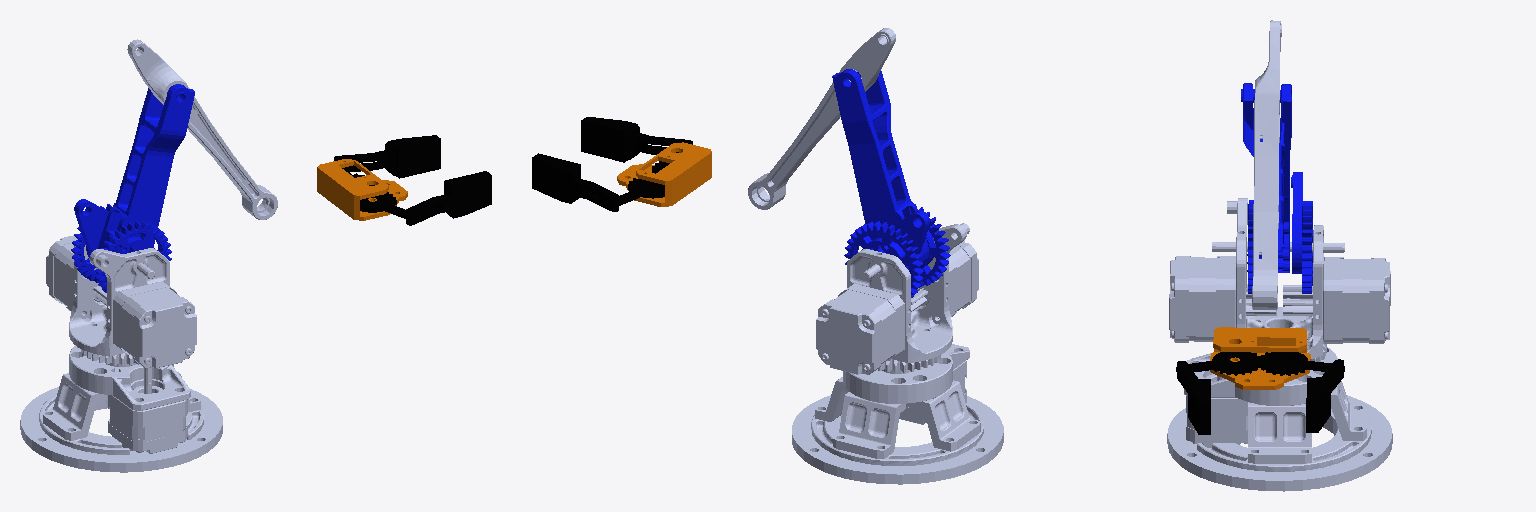
URDF robot description (arm_assem_urdf_v3):
<?xml version="1.0" encoding="utf-8" ?>
<!-- This URDF was automatically created by SolidWorks to URDF Exporter! Originally created by [author] ([email redacted]) 
      Commit Version: 1.6.0-4-g7f85cfe  Build Version: 1.6.7995.38578
      For more information, please see http://wiki.ros.org/sw_urdf_exporter -->
<robot name="arm_assem_urdf_v3">
    <link name="world" />
    <joint name="base_joint" type="fixed">
        <parent link="world" />
        <child link="base_link" />
        <origin rpy="0 0 0" xyz="0.0 0.0 0.0" />
    </joint>
    <link name="base_link">
        <inertial>
            <origin xyz="0.00150640163569479 -0.00744412697137323 0.021575291745562" rpy="0 0 0" />
            <mass value="0.225155608259606" />
            <inertia ixx="0.000158731186562235" ixy="1.89478288443537E-10" ixz="6.38637064713494E-07" iyy="0.000155364980363025" iyz="-7.89520234501468E-07" izz="0.000292560052720127" />
        </inertial>
        <visual>
            <origin xyz="0 0 0" rpy="0 0 0" />
            <geometry>
                <mesh filename="package://arm_assem_urdf_v3/meshes/base_link.STL" />
            </geometry>
            <material name="">
                <color rgba="0.792156862745098 0.819607843137255 0.933333333333333 1" />
            </material>
        </visual>
        <collision>
            <origin xyz="0 0 0" rpy="0 0 0" />
            <geometry>
                <mesh filename="package://arm_assem_urdf_v3/meshes/base_link.STL" />
            </geometry>
        </collision>
    </link>
    <link name="Link1">
        <inertial>
            <origin xyz="-0.000219660149647 -0.000206217410116394 0.0234208435275494" rpy="0 0 0" />
            <mass value="0.204256155677227" />
            <inertia ixx="8.37656797330928E-05" ixy="-1.11869600215038E-06" ixz="1.97407066773803E-06" iyy="7.64080027310773E-05" iyz="1.77249752239893E-06" izz="7.39724330055071E-05" />
        </inertial>
        <visual>
            <origin xyz="0 0 0" rpy="0 0 0" />
            <geometry>
                <mesh filename="package://arm_assem_urdf_v3/meshes/Link1.STL" />
            </geometry>
            <material name="">
                <color rgba="0.792156862745098 0.819607843137255 0.933333333333333 1" />
            </material>
        </visual>
        <collision>
            <origin xyz="0 0 0" rpy="0 0 0" />
            <geometry>
                <mesh filename="package://arm_assem_urdf_v3/meshes/Link1.STL" />
            </geometry>
        </collision>
    </link>
    <joint name="joint1" type="revolute">
        <origin xyz="0 0 0.069677" rpy="0 0 0" />
        <parent link="base_link" />
        <child link="Link1" />
        <axis xyz="0 0 -1" />
        <limit lower="-1.57" upper="1.57" effort="300" velocity="3" />
    </joint>
    <link name="link2">
        <inertial>
            <origin xyz="-0.000635030725265592 -0.0017005378112866 0.0303940578530917" rpy="0 0 0" />
            <mass value="0.0618234826721945" />
            <inertia ixx="7.2519438819205E-05" ixy="8.94729351156938E-08" ixz="-3.46012942132548E-07" iyy="7.65877029225625E-05" iyz="2.11637770985362E-06" izz="9.13398981116826E-06" />
        </inertial>
        <visual>
            <origin xyz="0 0 0" rpy="0 0 0" />
            <geometry>
                <mesh filename="package://arm_assem_urdf_v3/meshes/link2.STL" />
            </geometry>
            <material name="">
                <color rgba="0.0941176470588235 0.145098039215686 0.972549019607843 1" />
            </material>
        </visual>
        <collision>
            <origin xyz="0 0 0" rpy="0 0 0" />
            <geometry>
                <mesh filename="package://arm_assem_urdf_v3/meshes/link2.STL" />
            </geometry>
        </collision>
    </link>
    <joint name="joint2" type="revolute">
        <origin xyz="0 0 0.060523" rpy="0.0010408 0.27868 0.00028631" />
        <parent link="Link1" />
        <child link="link2" />
        <axis xyz="0.018199 0.99983 0.0041666" />
        <limit lower="-1.57" upper="1.57" effort="300" velocity="3" />
    </joint>
    <link name="link3">
        <inertial>
            <origin xyz="-0.000154541510170358 0.00680484750009253 0.0412582679635699" rpy="0 0 0" />
            <mass value="0.0214055275323528" />
            <inertia ixx="5.24770197465649E-05" ixy="-4.53189771846521E-09" ixz="2.11924573360701E-08" iyy="5.26782722904222E-05" iyz="-9.45340410405457E-07" izz="8.8759756943985E-07" />
        </inertial>
        <visual>
            <origin xyz="0 0 0" rpy="0 0 0" />
            <geometry>
                <mesh filename="package://arm_assem_urdf_v3/meshes/link3.STL" />
            </geometry>
            <material name="">
                <color rgba="0.792156862745098 0.819607843137255 0.933333333333333 1" />
            </material>
        </visual>
        <collision>
            <origin xyz="0 0 0" rpy="0 0 0" />
            <geometry>
                <mesh filename="package://arm_assem_urdf_v3/meshes/link3.STL" />
            </geometry>
        </collision>
    </link>
    <joint name="joint3" type="revolute">
        <origin xyz="0 0 0.12" rpy="3.1205 -0.88394 0.012478" />
        <parent link="link2" />
        <child link="link3" />
        <axis xyz="0.022672 -0.99974 0" />
        <limit lower="-1.57" upper="1.57" effort="300" velocity="3" />
    </joint>
    <link name="link4">
        <inertial>
            <origin xyz="-0.00934298668041544 0.000743518808622917 0.0267425924332726" rpy="0 0 0" />
            <mass value="0.023112618067934" />
            <inertia ixx="3.49933692107677E-06" ixy="2.69354223820958E-07" ixz="-1.92888175122474E-07" iyy="3.25892331793769E-06" iyz="4.91629627315494E-09" izz="4.7358787095275E-06" />
        </inertial>
        <visual>
            <origin xyz="0 0 0" rpy="0 0 0" />
            <geometry>
                <mesh filename="package://arm_assem_urdf_v3/meshes/link4.STL" />
            </geometry>
            <material name="">
                <color rgba="0.0941176470588235 0.145098039215686 0.972549019607843 1" />
            </material>
        </visual>
        <collision>
            <origin xyz="0 0 0" rpy="0 0 0" />
            <geometry>
                <mesh filename="package://arm_assem_urdf_v3/meshes/link4.STL" />
            </geometry>
        </collision>
    </link>
    <joint name="joint4" type="revolute">
        <origin xyz="0 0 0.12" rpy="-0.96533 0 -1.5481" />
        <parent link="link3" />
        <child link="link4" />
        <axis xyz="1 0 0" />
        <limit lower="-1.57" upper="1.57" effort="300" velocity="3" />
    </joint>
    <link name="link5">
        <inertial>
            <origin xyz="-0.00239092663439414 -0.00197324019686757 0.0161784991555977" rpy="0 0 0" />
            <mass value="0.0126330821792413" />
            <inertia ixx="2.68274528562228E-06" ixy="6.34711081616282E-08" ixz="3.16305210084618E-08" iyy="5.25117320157148E-06" iyz="3.98302641486583E-07" izz="3.73419870748951E-06" />
        </inertial>
        <visual>
            <origin xyz="0 0 0" rpy="0 0 0" />
            <geometry>
                <mesh filename="package://arm_assem_urdf_v3/meshes/link5.STL" />
            </geometry>
            <material name="">
                <color rgba="0.866666666666667 0.486274509803922 0.0588235294117647 1" />
            </material>
        </visual>
        <collision>
            <origin xyz="0 0 0" rpy="0 0 0" />
            <geometry>
                <mesh filename="package://arm_assem_urdf_v3/meshes/link5.STL" />
            </geometry>
        </collision>
    </link>
    <joint name="joint5" type="revolute">
        <origin xyz="-0.0072522 -0.0056047 0.0561" rpy="0 0 0" />
        <parent link="link4" />
        <child link="link5" />
        <axis xyz="0 0 -1" />
        <limit lower="-1.57" upper="1.57" effort="300" velocity="3" />
    </joint>
    <link name="rightGripper">
        <inertial>
            <origin xyz="0.00144162102260376 -0.00353867607475858 2.30607200002453E-13" rpy="0 0 0" />
            <mass value="0.00233493264577781" />
            <inertia ixx="3.0457499132358E-07" ixy="6.56068122289291E-08" ixz="2.90693388184678E-22" iyy="1.3682092240518E-07" iyz="-1.51570107499573E-21" izz="4.37893514760094E-07" />
        </inertial>
        <visual>
            <origin xyz="0 0 0" rpy="0 0 0" />
            <geometry>
                <mesh filename="package://arm_assem_urdf_v3/meshes/rightGripper.STL" />
            </geometry>
            <material name="">
                <color rgba="0.0196078431372549 0.0196078431372549 0.0196078431372549 1" />
            </material>
        </visual>
        <collision>
            <origin xyz="0 0 0" rpy="0 0 0" />
            <geometry>
                <mesh filename="package://arm_assem_urdf_v3/meshes/rightGripper.STL" />
            </geometry>
        </collision>
    </link>
    <joint name="rgripper_joint" type="revolute">
        <origin xyz="-0.016798 -0.0043953 0.0205" rpy="-1.5708 -1.5522 0" />
        <parent link="link5" />
        <child link="rightGripper" />
        <axis xyz="0 0 -1" />
        <limit lower="-1.57" upper="1.57" effort="300" velocity="3" />
    </joint>
    <link name="r_finger">
        <inertial>
            <origin xyz="0.044314154210055 0.0103703079345868 0.000990344503798118" rpy="0 0 0" />
            <mass value="0.00995624544719296" />
            <inertia ixx="5.42065432815972E-07" ixy="-4.36707086314946E-07" ixz="-2.97754922218503E-09" iyy="2.70090956464801E-06" iyz="-6.12682587836477E-10" izz="2.53748010084301E-06" />
        </inertial>
        <visual>
            <origin xyz="0 0 0" rpy="0 0 0" />
            <geometry>
                <mesh filename="package://arm_assem_urdf_v3/meshes/r_finger.STL" />
            </geometry>
            <material name="">
                <color rgba="0.0196078431372549 0.0196078431372549 0.0196078431372549 1" />
            </material>
        </visual>
        <collision>
            <origin xyz="0 0 0" rpy="0 0 0" />
            <geometry>
                <mesh filename="package://arm_assem_urdf_v3/meshes/r_finger.STL" />
            </geometry>
        </collision>
    </link>
    <joint name="r_fingerj" type="revolute">
        <origin xyz="0.010575 -0.03205 -0.0015" rpy="0 0 0" />
        <parent link="rightGripper" />
        <child link="r_finger" />
        <axis xyz="0 0 0" />
        <limit lower="-1.57" upper="1.57" effort="300" velocity="3" />
    </joint>
    <link name="leftGripper">
        <inertial>
            <origin xyz="0.00125836519034134 0.00326509739095496 -6.2762673342015E-05" rpy="0 0 0" />
            <mass value="0.00220737553386929" />
            <inertia ixx="3.0234988544685E-07" ixy="-5.673947300425E-08" ixz="6.61985177775197E-11" iyy="1.28450669790127E-07" iyz="3.94721215242359E-10" izz="4.27506882316946E-07" />
        </inertial>
        <visual>
            <origin xyz="0 0 0" rpy="0 0 0" />
            <geometry>
                <mesh filename="package://arm_assem_urdf_v3/meshes/leftGripper.STL" />
            </geometry>
            <material name="">
                <color rgba="0.0196078431372549 0.0196078431372549 0.0196078431372549 1" />
            </material>
        </visual>
        <collision>
            <origin xyz="0 0 0" rpy="0 0 0" />
            <geometry>
                <mesh filename="package://arm_assem_urdf_v3/meshes/leftGripper.STL" />
            </geometry>
        </collision>
    </link>
    <joint name="Lgripperjoint" type="revolute">
        <origin xyz="0.013202 -0.0043953 0.0205" rpy="-1.5708 -1.5522 0" />
        <parent link="link5" />
        <child link="leftGripper" />
        <axis xyz="0 0 1" />
        <limit lower="-1.57" upper="1.57" effort="300" velocity="3" />
        <mimic joint="rgripper_joint" multiplier="1.0" offset="0.0" />
    </joint>
    <link name="l_fing">
        <inertial>
            <origin xyz="0.0438967443303473 -0.0120151315934035 0.00150965549635686" rpy="0 0 0" />
            <mass value="0.00995624544719296" />
            <inertia ixx="5.77604056032025E-07" ixy="5.15919018530005E-07" ixz="2.95263858591668E-09" iyy="2.66537094143195E-06" iyz="-7.23259776929588E-10" izz="2.53748010084301E-06" />
        </inertial>
        <visual>
            <origin xyz="0 0 0" rpy="0 0 0" />
            <geometry>
                <mesh filename="package://arm_assem_urdf_v3/meshes/l_fing.STL" />
            </geometry>
            <material name="">
                <color rgba="0.0196078431372549 0.0196078431372549 0.0196078431372549 1" />
            </material>
        </visual>
        <collision>
            <origin xyz="0 0 0" rpy="0 0 0" />
            <geometry>
                <mesh filename="package://arm_assem_urdf_v3/meshes/l_fing.STL" />
            </geometry>
        </collision>
    </link>
    <joint name="l_fing_j" type="revolute">
        <origin xyz="0.0092191 0.032466 -0.0015" rpy="0 0 0" />
        <parent link="leftGripper" />
        <child link="l_fing" />
        <axis xyz="0 0 -1" />
        <limit lower="-1.57" upper="1.57" effort="300" velocity="3" />
        <mimic joint="r_fingerj" multiplier="1.0" offset="0.0" />
    </joint>
    <!-- Commented out r_elbo link and joint -->
    <!-- <link name="r_elbo">
     <inertial>
       <origin xyz="0.00528751165543523 -0.0160252252868439 0.00150000000007736" rpy="0 0 0" />
       <mass value="0.000682275993524469" />
       <inertia ixx="6.76453700296653E-08" ixy="2.13243058801086E-08" ixz="1.05378813934445E-22" iyy="1.00522688788846E-08" iyz="-3.299793730521E-22" izz="7.66742249182632E-08" />
     </inertial>
     <visual>
       <origin xyz="0 0 0" rpy="0 0 0" />
       <geometry>
         <mesh filename="package://arm_assem_urdf_v3/meshes/r_elbo.STL" />
       </geometry>
       <material name="">
         <color rgba="0 0 0 1" />
       </material>
     </visual>
     <collision>
       <origin xyz="0 0 0" rpy="0 0 0" />
       <geometry>
         <mesh filename="package://arm_assem_urdf_v3/meshes/r_elbo.STL" />
       </geometry>
     </collision>
   </link>
   <joint name="r_j_elbo" type="revolute">
     <origin xyz="-0.0092978 -0.0058953 0.0435" rpy="-1.5708 -1.5522 0" />
     <parent link="link5" />
     <child link="r_elbo" />
     <axis xyz="0 0 1" />
     <limit lower="-1.57" upper="1.57" effort="300" velocity="3" />
   </joint> -->
    <!-- Commented out l_elbo link and joint -->
    <!-- <link name="l_elbo">
     <inertial>
       <origin xyz="0.00460957239645077 0.0162332211012552 0.00150000000007761" rpy="0 0 0" />
       <mass value="0.000682275993524472" />
       <inertia ixx="6.93339337928684E-08" ixy="-1.88314935698777E-08" ixz="-9.86473238800678E-23" iyy="8.36370511568178E-09" iyz="-3.50313833197767E-22" izz="7.66742249182634E-08" />
       </inertial>
     <visual>
       <origin xyz="0 0 0" rpy="0 0 0" />
       <geometry>
         <mesh filename="package://arm_assem_urdf_v3/meshes/l_elbo.STL" />
       </geometry>
       <material name="">
         <color rgba="0 0 0 1" />
       </material>
     </visual>
     <collision>
       <origin xyz="0 0 0" rpy="0 0 0" />
       <geometry>
         <mesh filename="package://arm_assem_urdf_v3/meshes/l_elbo.STL" />
       </geometry>
     </collision>
   </link>
   <joint name="l_j_elbo" type="revolute">
     <origin xyz="0.0057022 -0.0058953 0.0435" rpy="-1.5708 -1.5522 0" />
     <parent link="link5" />
     <child link="l_elbo" />
     <axis xyz="0 0 1" />
     <limit lower="-1.57" upper="1.57" effort="300" velocity="3" />
   </joint> -->
    <!-- Transmission elements -->
    <transmission name="Link1_trans">
        <type>transmission_interface/SimpleTransmission</type>
        <joint name="joint1">
            <hardwareInterface>hardware_interface/PositionJointInterface</hardwareInterface>
        </joint>
        <actuator name="Link1_motor">
            <hardwareInterface>hardware_interface/PositionJointInterface</hardwareInterface>
            <mechanicalReduction>1</mechanicalReduction>
        </actuator>
    </transmission>
    <transmission name="link2_trans">
        <type>transmission_interface/SimpleTransmission</type>
        <joint name="joint2">
            <hardwareInterface>hardware_interface/PositionJointInterface</hardwareInterface>
        </joint>
        <actuator name="link2_motor">
            <hardwareInterface>hardware_interface/PositionJointInterface</hardwareInterface>
            <mechanicalReduction>1</mechanicalReduction>
        </actuator>
    </transmission>
    <transmission name="link3_trans">
        <type>transmission_interface/SimpleTransmission</type>
        <joint name="joint3">
            <hardwareInterface>hardware_interface/PositionJointInterface</hardwareInterface>
        </joint>
        <actuator name="link3_motor">
            <hardwareInterface>hardware_interface/PositionJointInterface</hardwareInterface>
            <mechanicalReduction>1</mechanicalReduction>
        </actuator>
    </transmission>
    <transmission name="link4_trans">
        <type>transmission_interface/SimpleTransmission</type>
        <joint name="joint4">
            <hardwareInterface>hardware_interface/PositionJointInterface</hardwareInterface>
        </joint>
        <actuator name="link4_motor">
            <hardwareInterface>hardware_interface/PositionJointInterface</hardwareInterface>
            <mechanicalReduction>1</mechanicalReduction>
        </actuator>
    </transmission>
    <transmission name="link5_trans">
        <type>transmission_interface/SimpleTransmission</type>
        <joint name="joint5">
            <hardwareInterface>hardware_interface/PositionJointInterface</hardwareInterface>
        </joint>
        <actuator name="link5_motor">
            <hardwareInterface>hardware_interface/PositionJointInterface</hardwareInterface>
            <mechanicalReduction>1</mechanicalReduction>
        </actuator>
    </transmission>
    <transmission name="rightGripper_trans">
        <type>transmission_interface/SimpleTransmission</type>
        <joint name="rgripper_joint">
            <hardwareInterface>hardware_interface/PositionJointInterface</hardwareInterface>
        </joint>
        <actuator name="rightGripper_motor">
            <hardwareInterface>hardware_interface/PositionJointInterface</hardwareInterface>
            <mechanicalReduction>1</mechanicalReduction>
        </actuator>
    </transmission>
    <transmission name="r_finger_trans">
        <type>transmission_interface/SimpleTransmission</type>
        <joint name="r_fingerj">
            <hardwareInterface>hardware_interface/PositionJointInterface</hardwareInterface>
        </joint>
        <actuator name="r_finger_motor">
            <hardwareInterface>hardware_interface/PositionJointInterface</hardwareInterface>
            <mechanicalReduction>1</mechanicalReduction>
        </actuator>
    </transmission>
    <transmission name="leftGripper_trans">
        <type>transmission_interface/SimpleTransmission</type>
        <joint name="Lgripperjoint">
            <hardwareInterface>hardware_interface/PositionJointInterface</hardwareInterface>
        </joint>
        <actuator name="leftGripper_motor">
            <hardwareInterface>hardware_interface/PositionJointInterface</hardwareInterface>
            <mechanicalReduction>1</mechanicalReduction>
        </actuator>
    </transmission>
    <transmission name="l_fing_trans">
        <type>transmission_interface/SimpleTransmission</type>
        <joint name="l_fing_j">
            <hardwareInterface>hardware_interface/PositionJointInterface</hardwareInterface>
        </joint>
        <actuator name="l_fing_motor">
            <hardwareInterface>hardware_interface/PositionJointInterface</hardwareInterface>
            <mechanicalReduction>1</mechanicalReduction>
        </actuator>
    </transmission>
    <!-- Commented out r_elbo transmission -->
    <!-- <transmission name="r_elbo_trans">
     <type>transmission_interface/SimpleTransmission</type>
     <joint name="r_j_elbo">
       <hardwareInterface>hardware_interface/PositionJointInterface</hardwareInterface>
     </joint>
     <actuator name="r_elbo_motor">
       <hardwareInterface>hardware_interface/PositionJointInterface</hardwareInterface>
       <mechanicalReduction>1</mechanicalReduction>
     </actuator>
   </transmission>
 
   <transmission name="l_elbo_trans">
     <type>transmission_interface/SimpleTransmission</type>
     <joint name="l_j_elbo">
       <hardwareInterface>hardware_interface/PositionJointInterface</hardwareInterface>
     </joint>
     <actuator name="l_elbo_motor">
       <hardwareInterface>hardware_interface/PositionJointInterface</hardwareInterface>
       <mechanicalReduction>1</mechanicalReduction>
     </actuator>
   </transmission> -->
    <!-- Gazebo elements -->
    <gazebo reference="base_link">
        <selfCollide>true</selfCollide>
        <plugin name="gazebo_ros_control" filename="libgazebo_ros_control.so">
            <robotNamespace>/</robotNamespace>
        </plugin>
    </gazebo>
    <gazebo reference="Link1">
        <selfCollide>true</selfCollide>
    </gazebo>
    <gazebo reference="link2">
        <selfCollide>true</selfCollide>
    </gazebo>
    <gazebo reference="link3">
        <selfCollide>true</selfCollide>
    </gazebo>
    <gazebo reference="link4">
        <selfCollide>true</selfCollide>
    </gazebo>
    <gazebo reference="link5">
        <selfCollide>true</selfCollide>
    </gazebo>
    <gazebo reference="rightGripper">
        <selfCollide>false</selfCollide>
        <material>Gazebo/Black</material>
    </gazebo>
    <gazebo reference="r_finger">
        <selfCollide>false</selfCollide>
        <material>Gazebo/Black</material>
    </gazebo>
    <gazebo reference="leftGripper">
        <selfCollide>false</selfCollide>
        <material>Gazebo/Black</material>
    </gazebo>
    <gazebo reference="l_fing">
        <selfCollide>false</selfCollide>
        <material>Gazebo/Black</material>
    </gazebo>
    <!-- Commented out r_elbo and l_elbo gazebo references -->
    <!-- <gazebo reference="r_elbo">
     <selfCollide>true</selfCollide>
   </gazebo>
 
   <gazebo reference="l_elbo">
     <selfCollide>true</selfCollide>
   </gazebo> -->
    <gazebo>
        <plugin name="control" filename="libgazebo_ros_control.so">
            <robotNamespace>/</robotNamespace>
        </plugin>
        <disable_collision>rightGripper leftGripper</disable_collision>
        <disable_collision>rightGripper l_fing</disable_collision>
        <disable_collision>leftGripper r_finger</disable_collision>
        <disable_collision>r_finger l_fing</disable_collision>
    </gazebo>
</robot>

--- Render facts (derived) ---
The picture shows the robot from 3 angles, left to right: view 1: azimuth 30°, elevation 25°; view 2: azimuth 150°, elevation 25°; view 3: azimuth 270°, elevation 25°; orthographic projection.
Model arm_assem_urdf_v3 with 11 links and 10 joints (9 revolute, 1 fixed), rooted at world, posed all joints at 0.
Links seen in each view (by area): view 1: base_link, Link1, link2, link3, link5, l_fing, r_finger, rightGripper; view 2: base_link, Link1, link2, link3, link5, r_finger, l_fing, leftGripper; view 3: base_link, Link1, link3, link2, link5, l_fing, r_finger, leftGripper, rightGripper.
Link boxes in pixels (x1,y1,x2,y2): base_link: [20, 345, 222, 472]; Link1: [46, 235, 196, 368]; link2: [71, 84, 194, 292]; link3: [127, 39, 277, 219]; link5: [317, 159, 407, 220]; l_fing: [334, 135, 440, 178]; r_finger: [406, 171, 491, 225]; rightGripper: [360, 192, 414, 219]; base_link: [792, 344, 1003, 484]; Link1: [816, 223, 978, 374]; link2: [832, 69, 950, 297]; link3: [748, 28, 895, 209]; link5: [617, 142, 711, 206]; r_finger: [581, 117, 692, 162]; l_fing: [532, 153, 618, 211]; leftGripper: [610, 178, 664, 206]; base_link: [1167, 347, 1392, 491]; Link1: [1169, 198, 1390, 361]; link3: [1252, 20, 1281, 309]; link2: [1241, 83, 1312, 293]; link5: [1210, 327, 1310, 389]; l_fing: [1306, 359, 1343, 432]; r_finger: [1177, 361, 1210, 434]; leftGripper: [1259, 352, 1344, 375]; rightGripper: [1176, 352, 1261, 375].
Size in the robot's own frame: 0.3238 by 0.135 by 0.2844 metres.
9 mesh visuals loaded from 10 distinct referenced files (9 binary STL); not drawn: 1 (reference not matched to a file when rendering).
